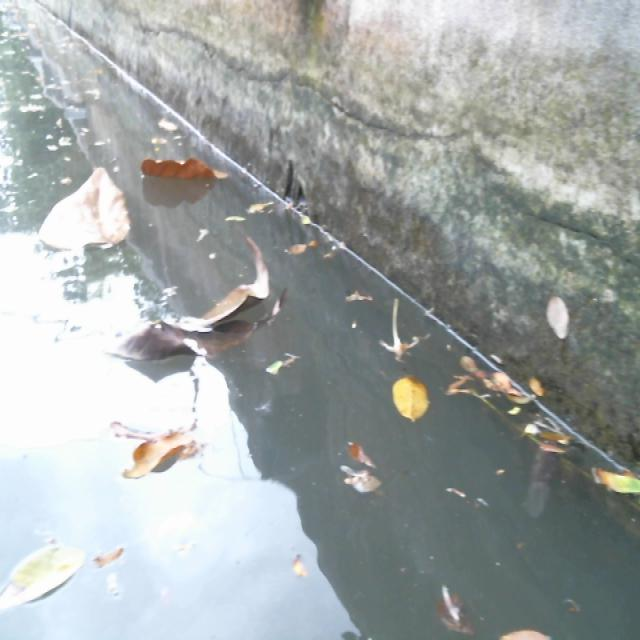Big-leaf: (106, 239, 282, 367), (103, 412, 228, 509), (40, 159, 132, 256), (142, 148, 244, 193)
Small-leaf: (0, 535, 88, 621), (339, 431, 383, 510), (390, 372, 444, 436), (592, 461, 640, 512), (440, 577, 477, 640), (538, 421, 577, 474), (288, 234, 338, 272), (485, 364, 519, 405), (89, 546, 132, 578), (496, 628, 561, 640), (250, 198, 281, 221)
